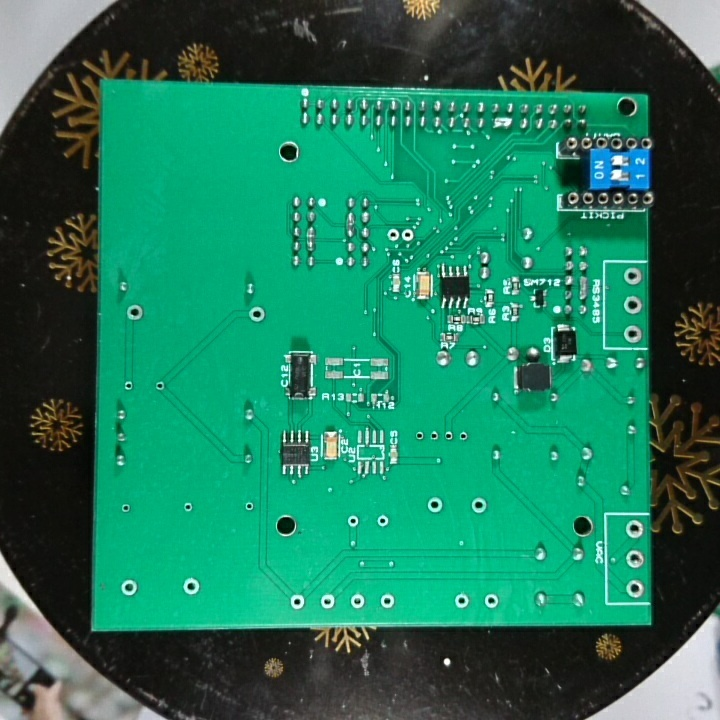F: (622, 548, 647, 571), (622, 294, 645, 318), (620, 323, 645, 345), (622, 266, 645, 289), (179, 576, 203, 598), (624, 518, 646, 542), (123, 302, 145, 324), (623, 579, 645, 601), (246, 305, 268, 326), (118, 577, 139, 598), (469, 495, 489, 517), (451, 591, 471, 613), (317, 591, 337, 611), (424, 495, 444, 515), (482, 592, 501, 611), (288, 592, 306, 612), (347, 592, 365, 611), (378, 591, 397, 609), (374, 513, 391, 532), (399, 226, 415, 243), (149, 377, 166, 393), (426, 427, 442, 444), (455, 428, 472, 444), (345, 512, 360, 530), (440, 427, 455, 445), (386, 226, 400, 245), (179, 498, 194, 515), (413, 428, 427, 444), (117, 501, 132, 515), (122, 378, 135, 393), (242, 500, 255, 514)
P: (302, 224, 317, 254), (577, 272, 591, 304), (344, 209, 357, 238), (491, 115, 514, 131)
